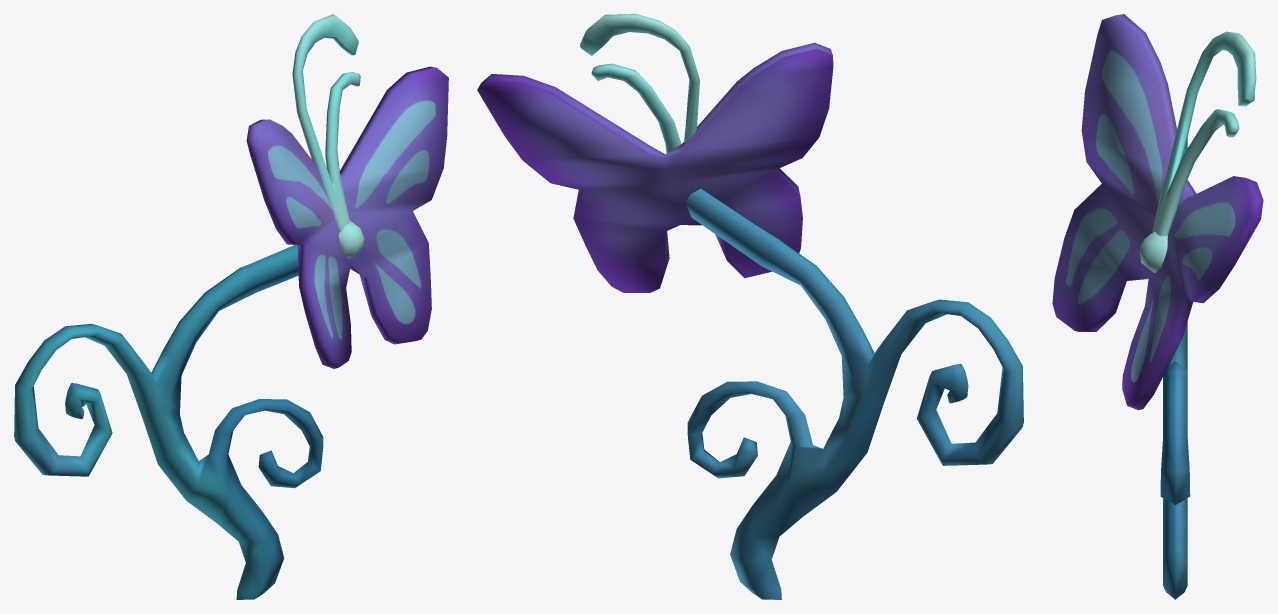
Rendered from TrustCrop Final.FBX.
3 renders of one model, left to right at view 1: azimuth 30°, elevation 25°; view 2: azimuth 150°, elevation 25°; view 3: azimuth 270°, elevation 25°, orthographic. The views are drawn at different scales.
Visible parts, largest first — view 1: ButterFlyModel_Mesh; view 2: ButterFlyModel_Mesh; view 3: ButterFlyModel_Mesh.
Part boxes in pixels (x1,y1,x2,y2): ButterFlyModel_Mesh: (14,14,448,599); ButterFlyModel_Mesh: (477,14,1023,599); ButterFlyModel_Mesh: (1052,14,1263,599).
Size of the model in its own units: 2.49 by 2.72 by 0.8529.
